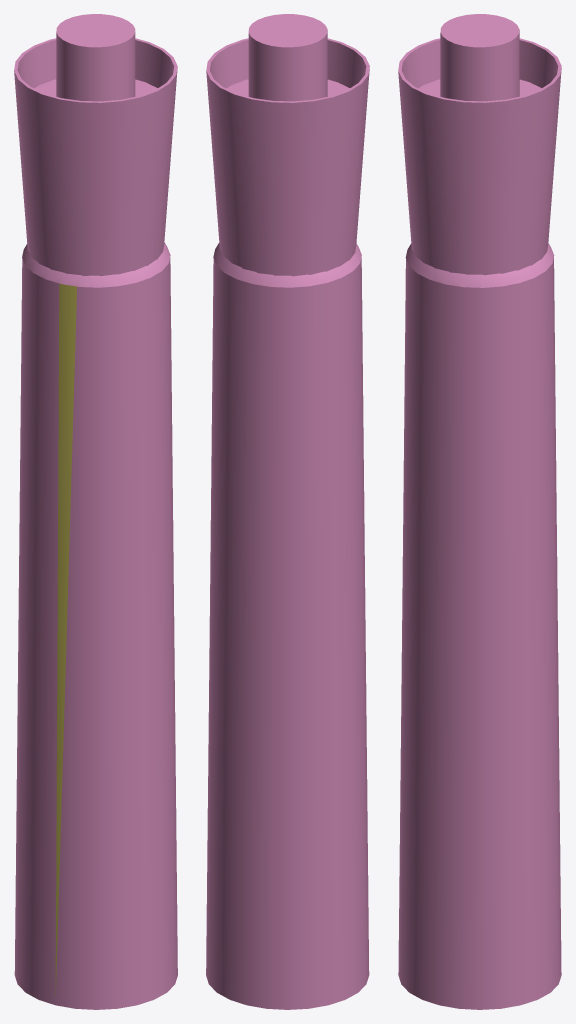
Rendered from marker_pink.fbx.
3 views of the same model, side by side, from view 1: azimuth 30°, elevation 25°; view 2: azimuth 150°, elevation 25°; view 3: azimuth 270°, elevation 25° (orthographic).
Visible parts, largest first — view 1: pink_marker, pink_cap; view 2: pink_marker, pink_cap; view 3: pink_marker, pink_cap.
Boxes of the visible parts, left/top/right/bottom form: pink_marker: left=14, top=242, right=177, bottom=1009; pink_cap: left=14, top=14, right=177, bottom=276; pink_marker: left=206, top=243, right=369, bottom=1009; pink_cap: left=206, top=14, right=369, bottom=276; pink_marker: left=398, top=243, right=561, bottom=1009; pink_cap: left=398, top=14, right=561, bottom=275.
Bounding box in the file's own units: 1.86 × 11.82 × 1.86.
